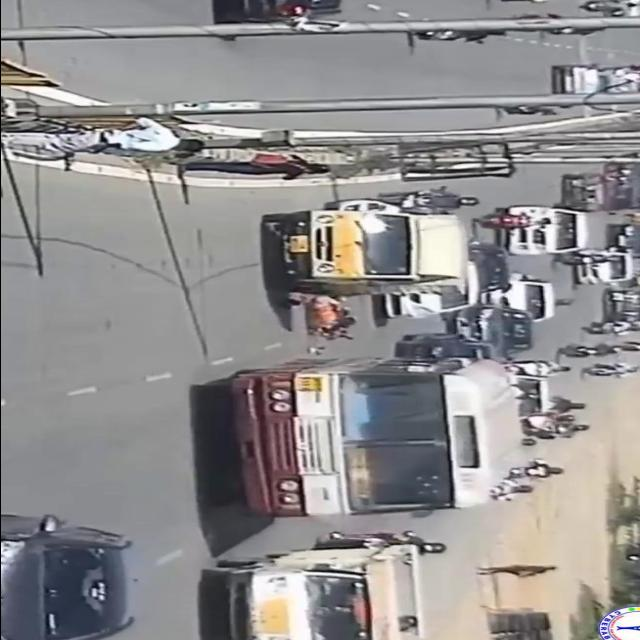accident: (255, 205, 489, 346)
non_accident: (479, 149, 640, 315), (534, 30, 640, 96)
